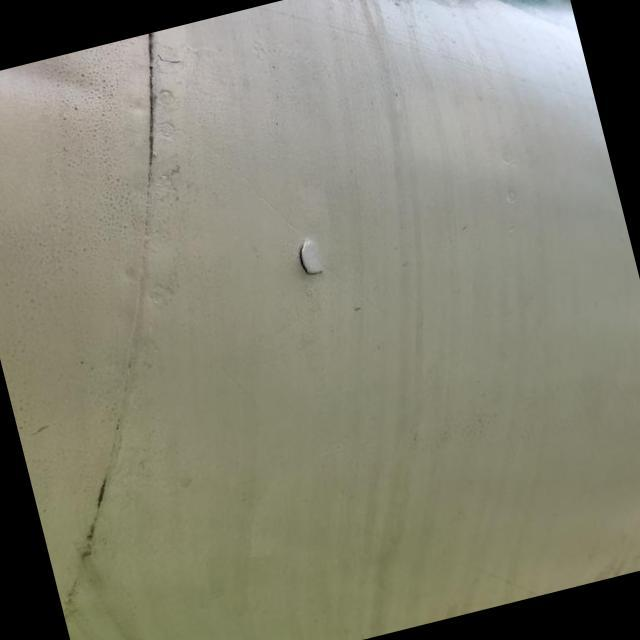Rupture: (281, 224, 341, 292)
